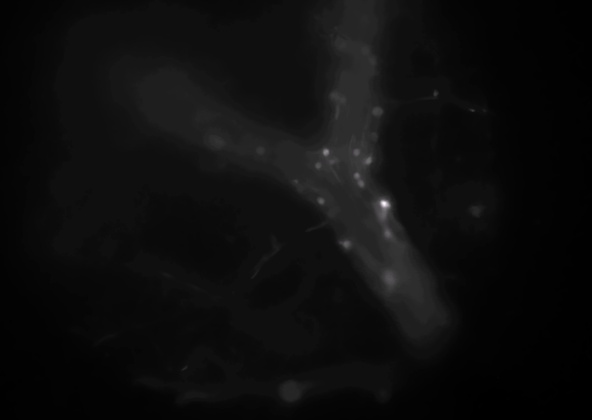cell: (377, 196, 391, 210), (370, 104, 384, 118), (348, 146, 362, 160), (361, 154, 375, 168), (318, 145, 332, 159), (310, 158, 324, 172), (324, 154, 338, 168), (328, 89, 342, 103), (350, 169, 364, 183), (334, 91, 348, 105), (353, 176, 367, 190), (339, 236, 353, 250), (382, 272, 396, 286), (379, 227, 393, 241), (380, 197, 394, 211), (374, 204, 388, 218), (377, 201, 391, 215), (313, 193, 327, 207), (287, 176, 301, 190), (254, 143, 268, 157), (207, 134, 221, 148), (358, 43, 372, 57), (366, 54, 380, 68), (333, 38, 347, 52), (367, 129, 381, 143)
